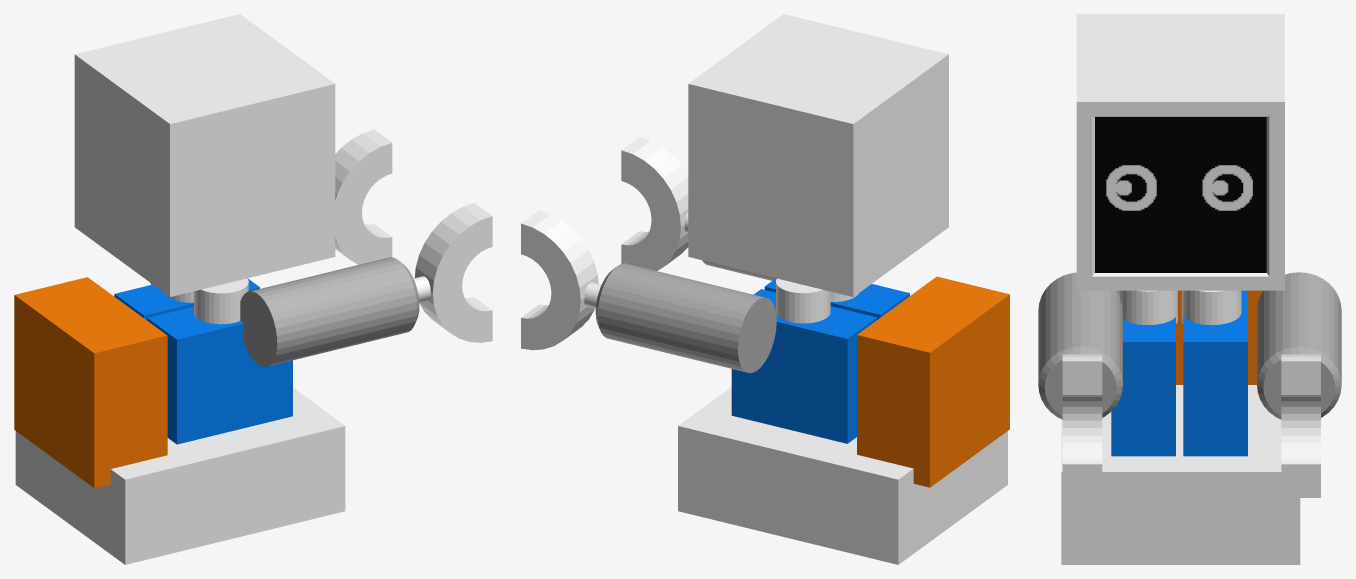
The model's file is main.dae.
3 renders of one model, left to right at view 1: azimuth 30°, elevation 25°; view 2: azimuth 150°, elevation 25°; view 3: azimuth 270°, elevation 25°, orthographic. The views are drawn at different scales.
Parts seen in each view (by area): view 1: head; view 2: head; view 3: head.
Boxes of the visible parts, <box> form: head: <box>14,14,492,564</box>; head: <box>521,14,1009,564</box>; head: <box>1038,14,1341,564</box>.
Bounding box in the file's own units: 0.1163 × 0.0728 × 0.127.
1 material, 1 textured.
